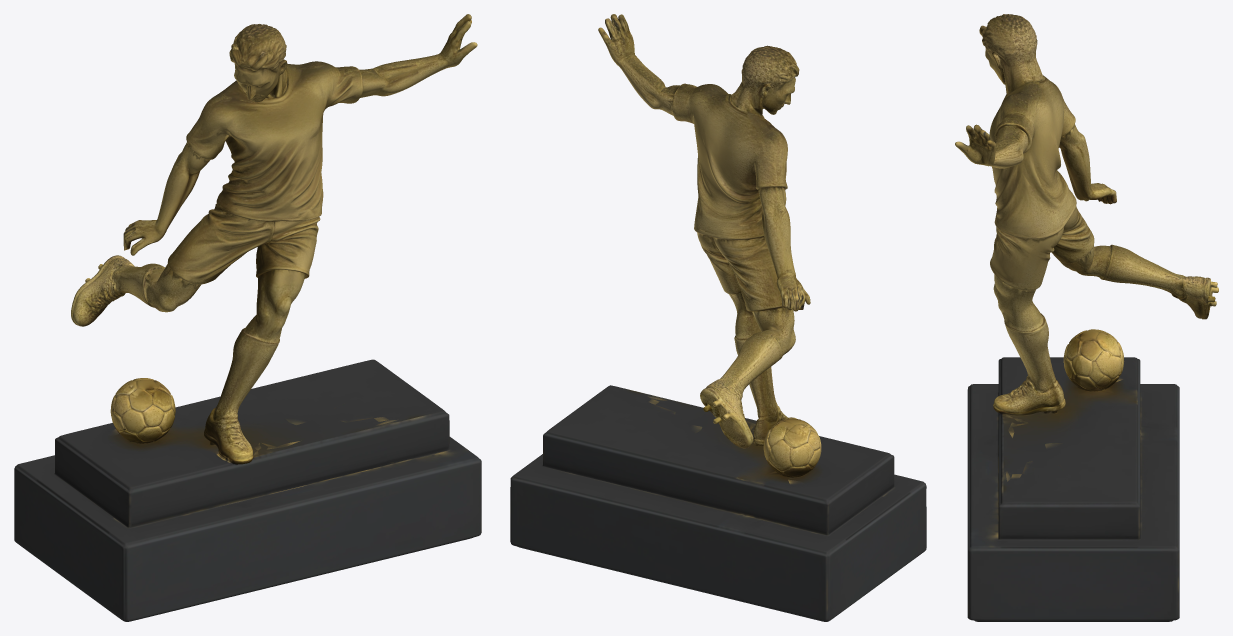
File: playmaker.glb
The picture shows the model from 3 angles, left to right: view 1: azimuth 30°, elevation 25°; view 2: azimuth 150°, elevation 25°; view 3: azimuth 270°, elevation 25°; orthographic projection. The views are drawn at different scales.
Visible parts, largest first — view 1: node_0; view 2: node_0; view 3: node_0.
Boxes of the visible parts, left/top/right/bottom form: node_0: left=14, top=14, right=481, bottom=621; node_0: left=510, top=14, right=926, bottom=621; node_0: left=955, top=14, right=1218, bottom=621.
Size of the model in its own units: 0.6514 by 0.9459 by 0.4399.
1 material, 1 textured.
